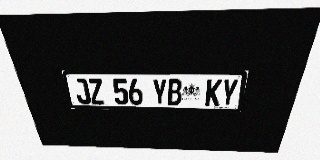5: (112, 79, 129, 105)
6: (127, 79, 143, 105)
B: (167, 79, 182, 105)
J: (73, 79, 91, 104)
K: (205, 79, 223, 106)
Y: (220, 79, 239, 106), (152, 79, 167, 105)
Z: (87, 79, 105, 104)
